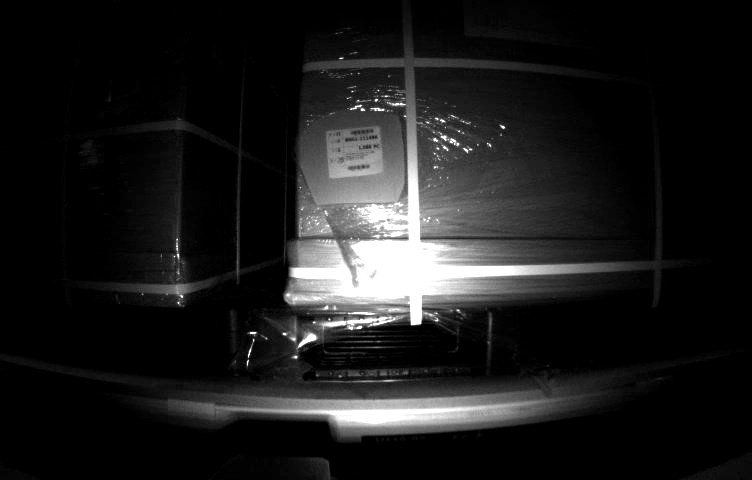True Barcode: (326, 127, 386, 173)
